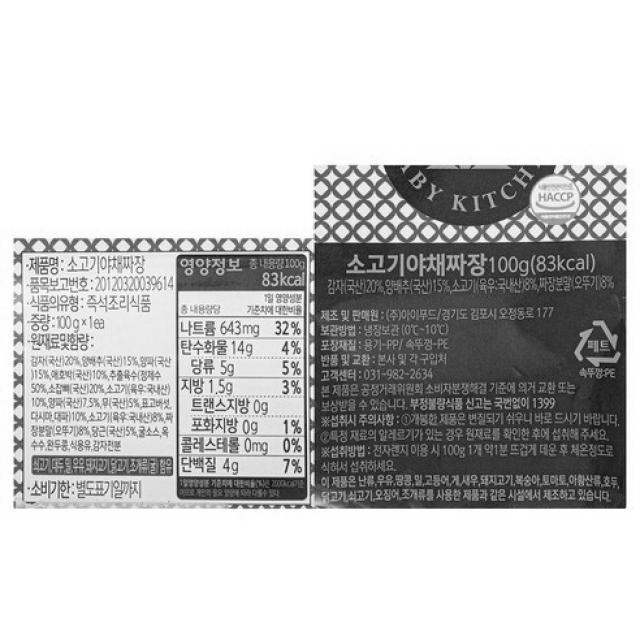Nutrition Label: (172, 246, 318, 516)
